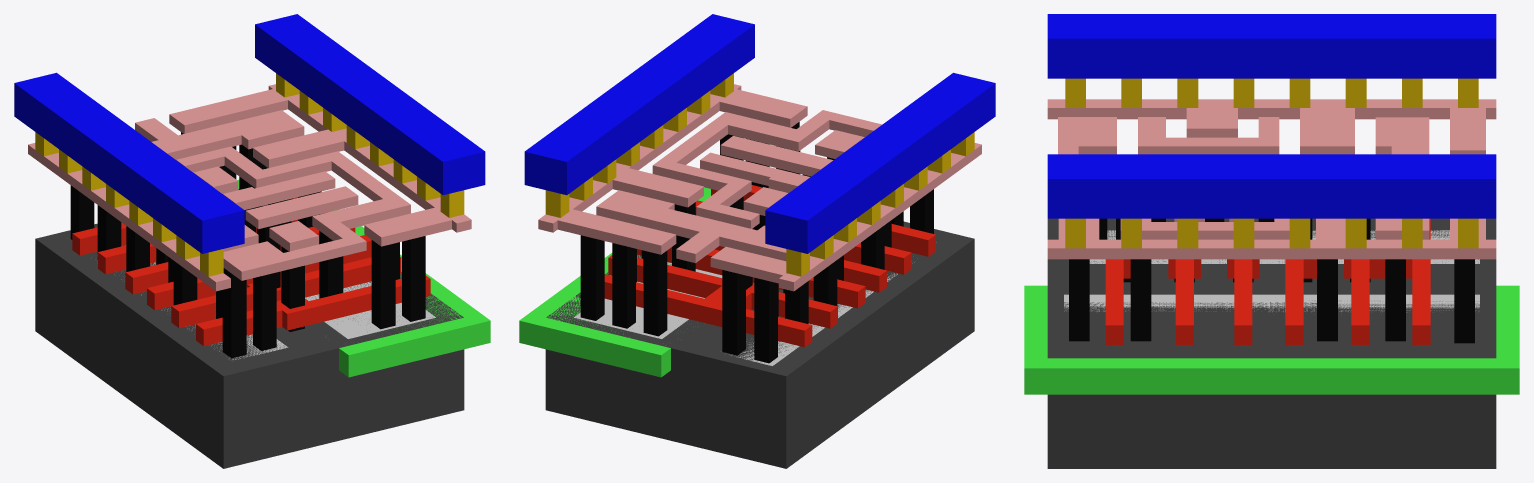
The model's file is sky130_fd_sc_hd__o31a_2.obj.
3 renders of one model, left to right at view 1: azimuth 30°, elevation 25°; view 2: azimuth 150°, elevation 25°; view 3: azimuth 270°, elevation 25°, orthographic. The views are drawn at different scales.
Parts seen in each view (by area): view 1: subs, li, metal1, licon, poly, nwell, mcon, tap; view 2: subs, li, metal1, licon, poly, nwell, mcon, tap, diff; view 3: subs, metal1, li, nwell, poly, mcon, licon, tap, diff.
Boxes of the visible parts, <box> form: subs: <box>35,189,464,468</box>; li: <box>28,84,471,291</box>; metal1: <box>14,14,485,253</box>; licon: <box>70,132,425,358</box>; poly: <box>72,197,430,346</box>; nwell: <box>237,179,490,377</box>; mcon: <box>35,73,464,276</box>; tap: <box>305,281,435,338</box>; subs: <box>545,221,974,468</box>; li: <box>538,84,981,291</box>; metal1: <box>524,14,995,253</box>; licon: <box>580,122,933,363</box>; poly: <box>604,185,935,347</box>; nwell: <box>519,187,710,377</box>; mcon: <box>545,73,974,276</box>; tap: <box>574,262,722,338</box>; diff: <box>729,242,936,365</box>; subs: <box>1047,218,1496,468</box>; metal1: <box>1047,14,1496,218</box>; li: <box>1047,99,1496,259</box>; nwell: <box>1024,285,1519,394</box>; poly: <box>1105,218,1430,345</box>; mcon: <box>1065,78,1478,248</box>; licon: <box>1069,218,1474,343</box>; tap: <box>1064,294,1479,312</box>; diff: <box>1089,230,1479,263</box>.
Size of the model in its own units: 3.2 by 2.74 by 4.06.
